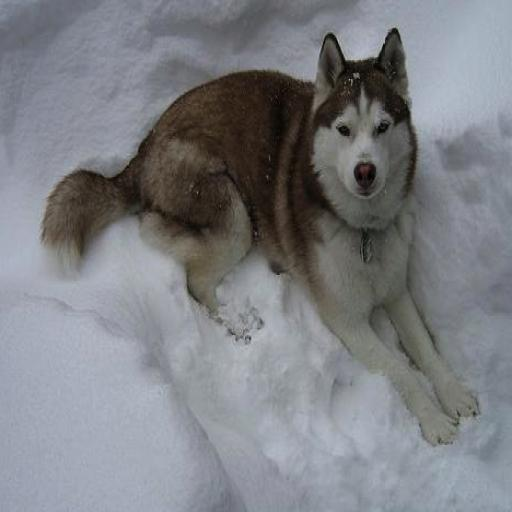dog_face: (322, 27, 413, 203)
